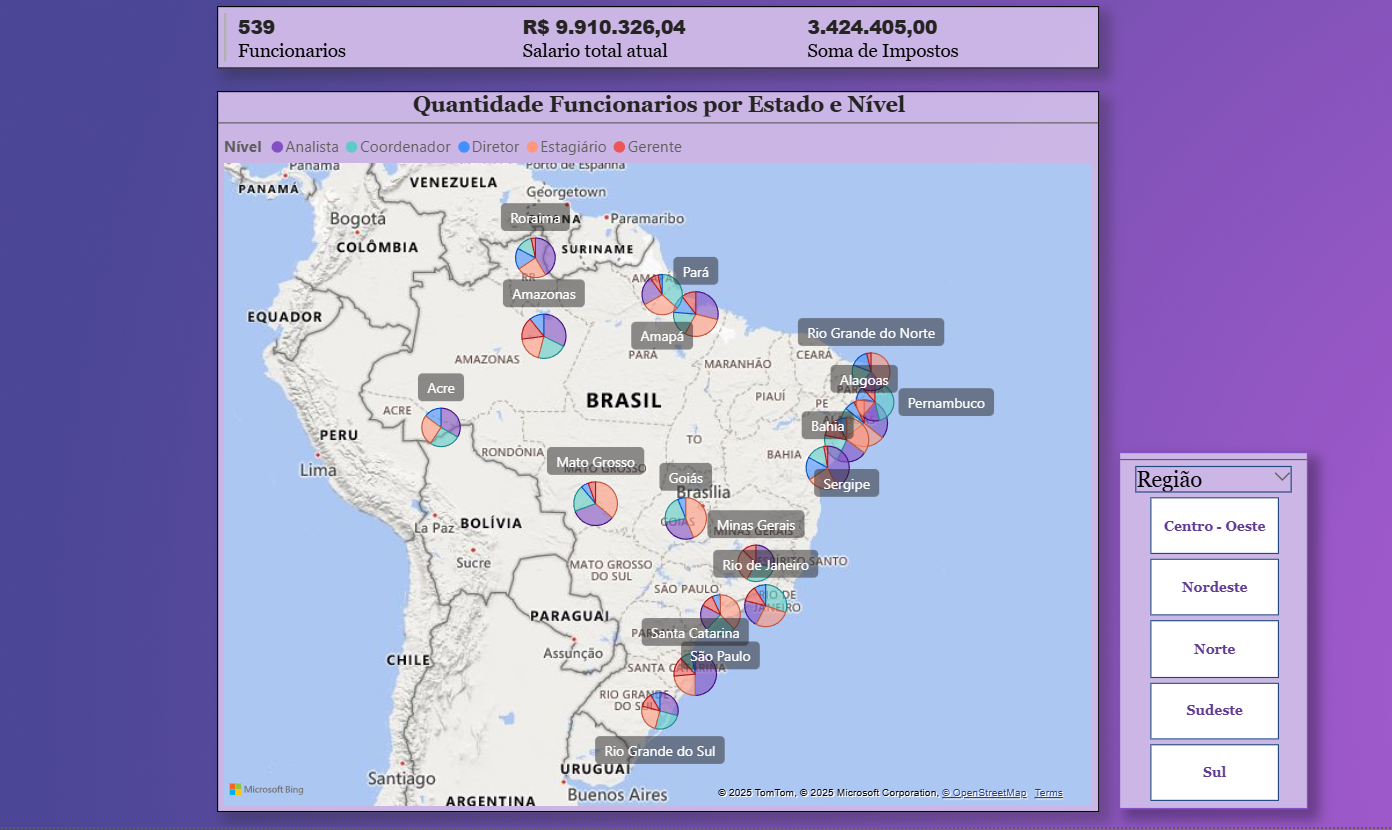

Layout of this report page (visuals, bound fields, positions):
{"tool":"powerbi","page":{"name":"Página 3","canvas":[1280,720],"ordinal":2},"visuals":[{"type":"map","fields":{"Category":["BaseCEP.Estado"],"Size":["BaseFuncionarios01.Quantidade Funcionarios"],"Series":["BaseCargos.Nível"]},"box":[259.6,85.4,760.8,621.9],"z":0},{"type":"slicer","fields":{"Values":["BaseCEP.Região"]},"box":[1037.6,396.8,163,307.9],"z":1000},{"type":"multiRowCard","fields":{"Values":["BaseFuncionarios01.Nome Completo","BaseFuncionarios01.Salario total atual","BaseFuncionarios01.Impostos"]},"box":[259.6,12.1,760.8,54.3],"z":2000}]}

Visuals, with their boxes in screenshot pixels (x1, y1, x2, y2):
map - BaseCEP.Estado x BaseFuncionarios01.Quantidade Funcionarios: x1=216 y1=88 x2=1093 y2=804
slicer - BaseCEP.Região: x1=1113 y1=447 x2=1301 y2=801
multiRowCard - BaseFuncionarios01.Nome Completo x BaseFuncionarios01.Salario total atual: x1=216 y1=3 x2=1093 y2=66
